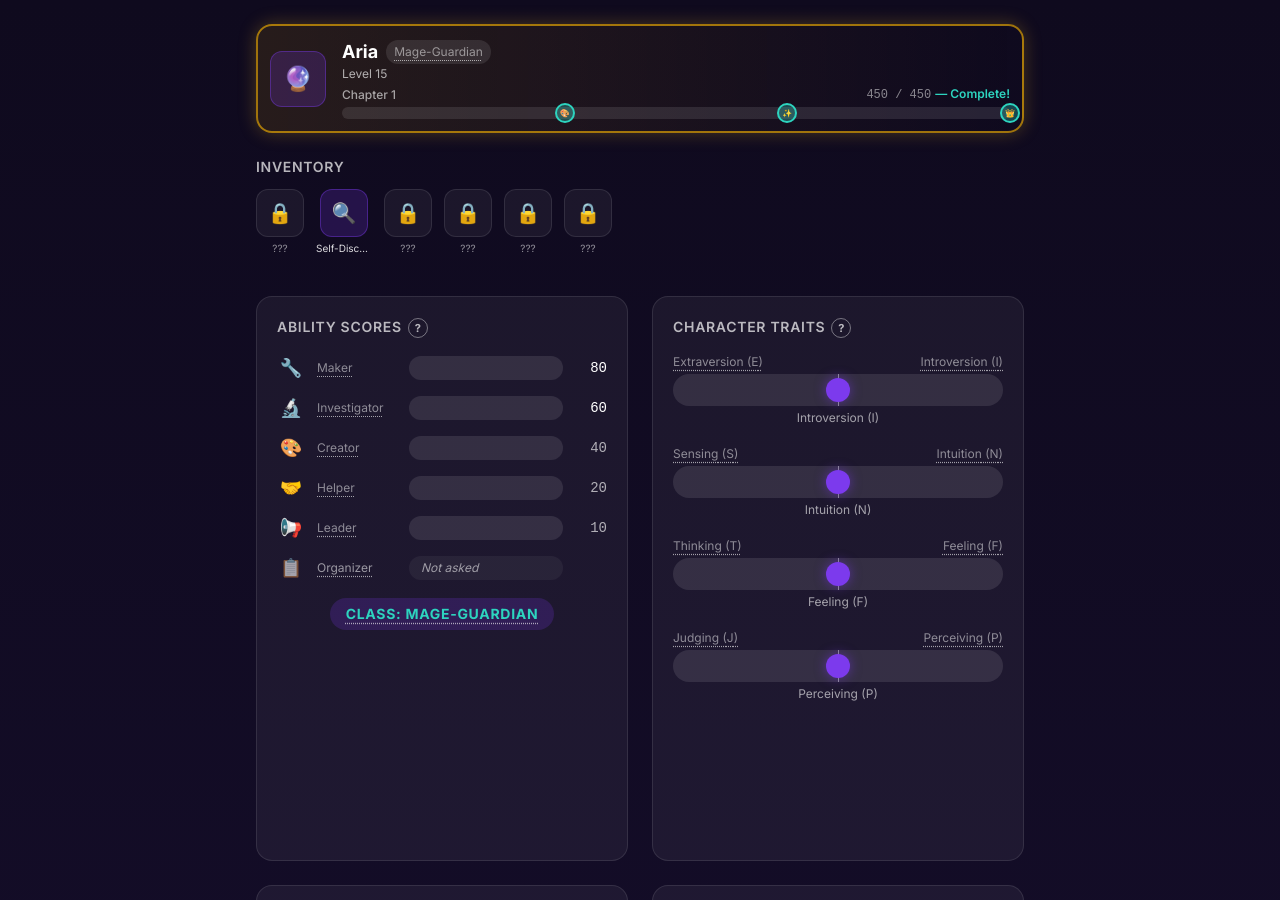
Test: the dashboard's jargon › explains a word the student has no reading for
The image size is (1280, 900).
Check: the heading "Aria" is shown, box x1=342 y1=38 x2=378 y2=66
Click the button "Organizer": (357, 568) x1=317 y1=556 x2=397 y2=580
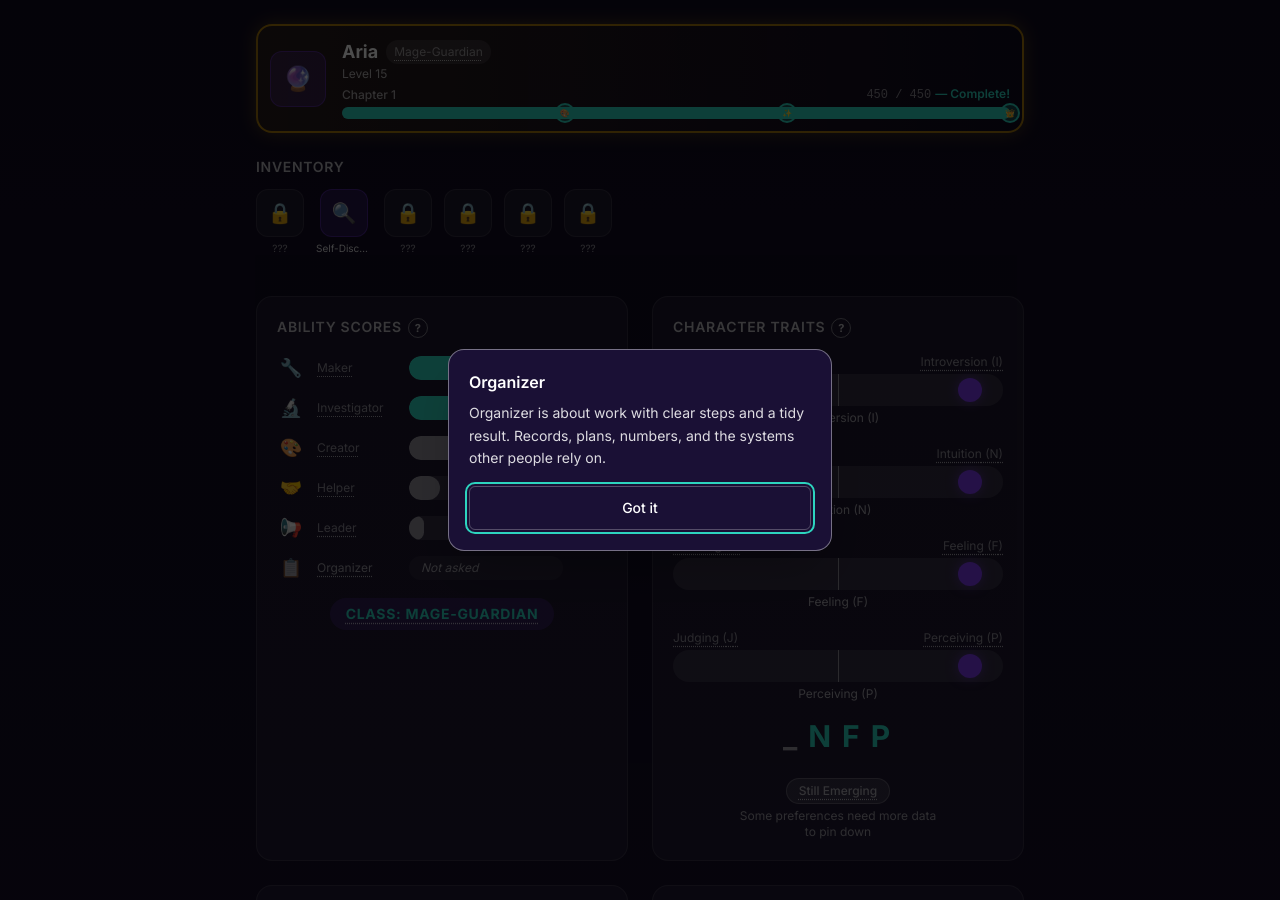
Check: the text "Not asked" is shown, box x1=421 y1=560 x2=478 y2=576
Check: the dialog "Organizer" is shown, box x1=448 y1=349 x2=832 y2=551
